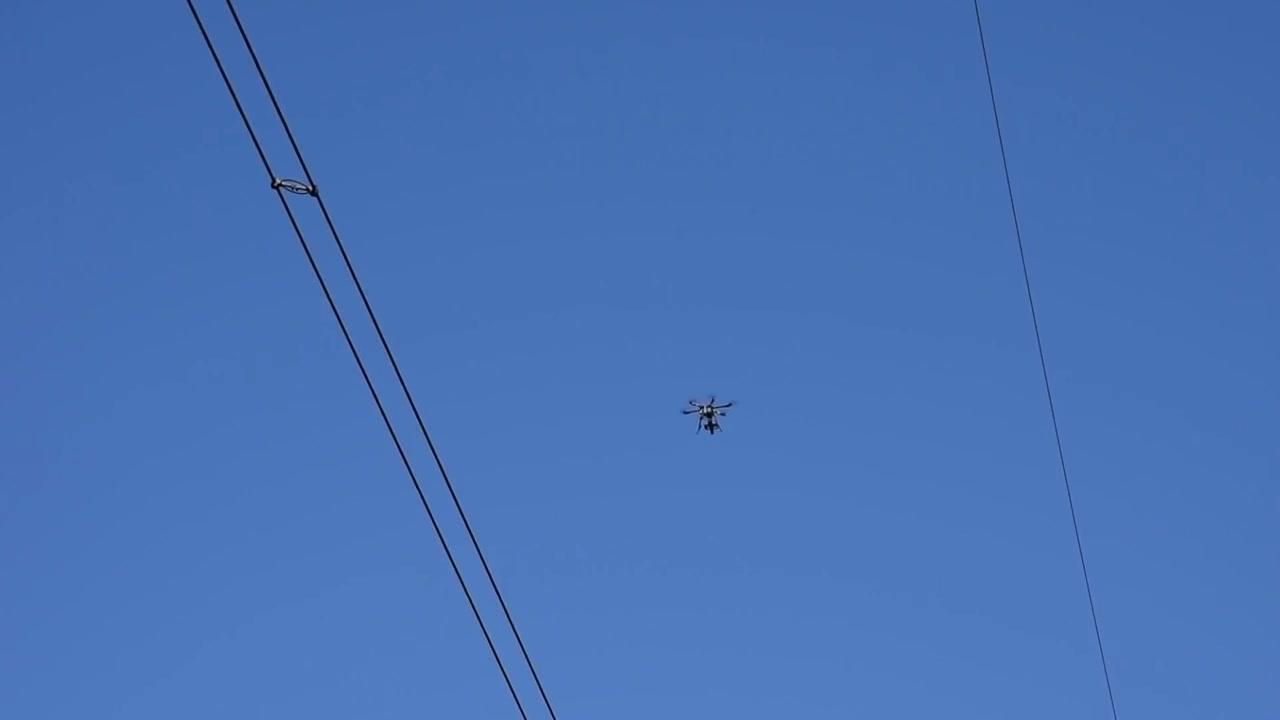UAV: (681, 396, 736, 436)
